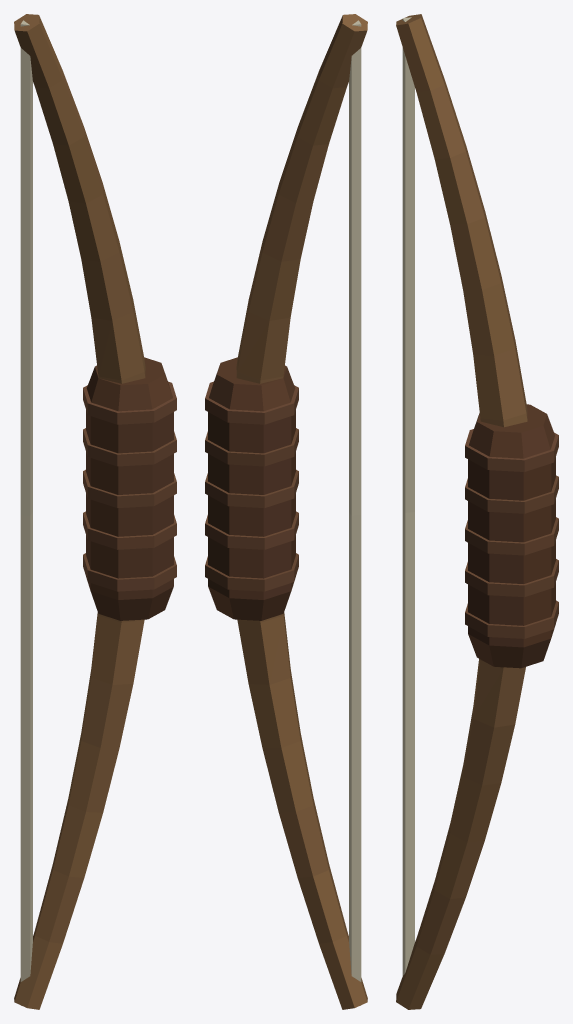
Rendered from weapon_bow_short.glb.
3 renders of one model, left to right at view 1: azimuth 30°, elevation 25°; view 2: azimuth 150°, elevation 25°; view 3: azimuth 330°, elevation 25°, orthographic.
Visible parts, largest first — view 1: weapon_bow_short, weapon_bow_short_string; view 2: weapon_bow_short, weapon_bow_short_string; view 3: weapon_bow_short, weapon_bow_short_string.
Part boxes in pixels (x1,y1,x2,y2): weapon_bow_short: (14,14,176,1009); weapon_bow_short_string: (20,20,32,1005); weapon_bow_short: (205,14,367,1009); weapon_bow_short_string: (349,20,361,1005); weapon_bow_short: (396,14,558,1009); weapon_bow_short_string: (402,17,414,975).
Bounding box in the file's own units: 0.168 × 1.01 × 0.0899.
